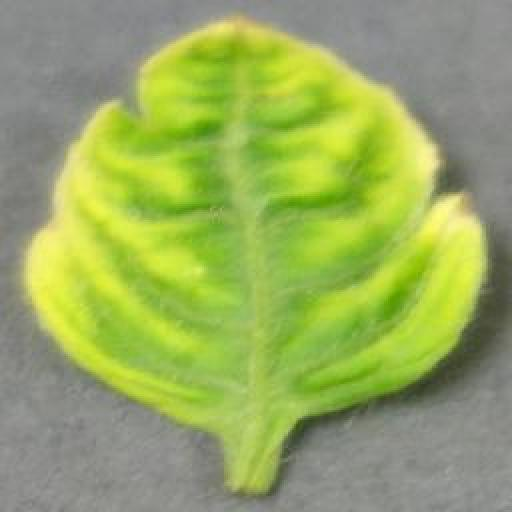disease_tomato: (18, 14, 491, 418)
